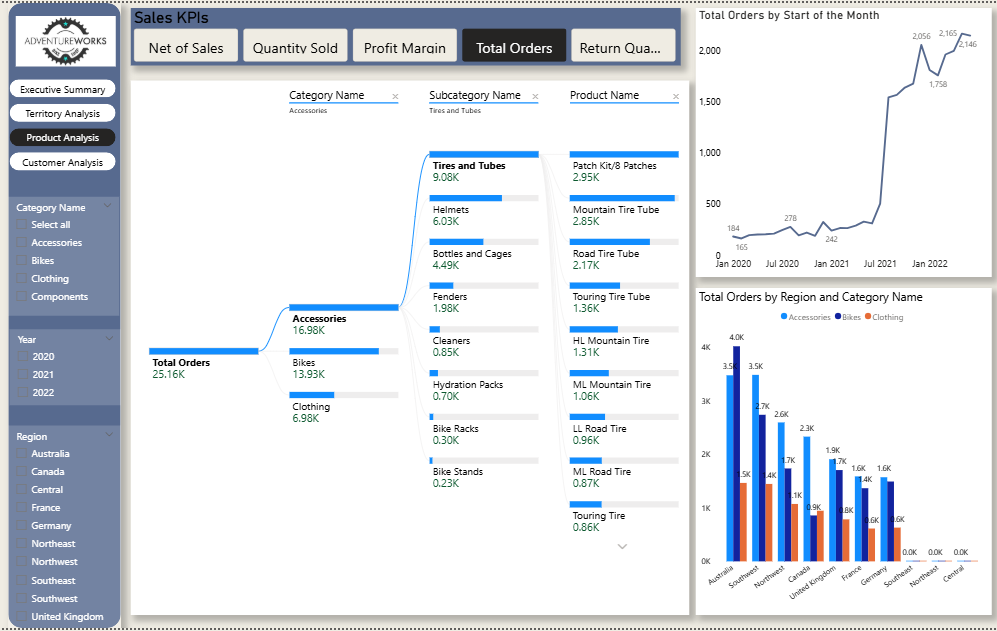

The page's visual inventory and layout, read from the dashboard file:
{"tool":"powerbi","page":{"name":"Product Analysis","canvas":[1600,1000],"ordinal":3},"visuals":[{"type":"shape","box":[17.5,0,180,1000],"z":0},{"type":"image","box":[30,0,160,122.5],"z":1000},{"type":"slicer","fields":{"Values":["DimProduct Categories.Category Name"]},"box":[17.5,310,177.5,190],"z":2000},{"type":"slicer","fields":{"Values":["DimDate.Year"]},"box":[20,500,177.1,157.1],"z":3000},{"type":"slicer","fields":{"Values":["DimTerritory.Region"]},"box":[20,640,177.5,360],"z":4000},{"type":"pageNavigator","box":[20,122.9,170,148.6],"z":5000},{"type":"decompositionTreeVisual","fields":{"Analyze":["_Measures.Total Orders"],"ExplainBy":["DimProduct Categories.Category Name","DimProduct Subcategories.Subcategory Name","DimProduct.Product Name"]},"box":[213.3,123.3,893.3,855],"z":6000},{"type":"advancedSlicerVisual","fields":{"Values":["Sales KPIs 2.Sales KPIs"]},"box":[213.3,8.3,880,91.7],"z":7000},{"type":"lineChart","fields":{"Y":["_Measures.Total Orders"],"Category":["DimDate.Start of the Month"]},"box":[1118.3,8.3,473.3,430],"z":8000},{"type":"clusteredColumnChart","fields":{"Y":["_Measures.Total Orders"],"Category":["DimTerritory.Region"],"Series":["DimProduct Categories.Category Name"]},"box":[1118.3,455,473.3,523.3],"z":9000}]}

Visuals, with their boxes on the page's 1600x1000 design canvas (x1, y1, x2, y2). These are canvas units, not pixel positions in the 997x631 screenshot, which may show the page scaled, cropped or inside an application window:
shape: 18 0 198 1000
image: 30 0 190 122
slicer - DimProduct Categories.Category Name: 18 310 195 500
slicer - DimDate.Year: 20 500 197 657
slicer - DimTerritory.Region: 20 640 198 1000
pageNavigator: 20 123 190 272
decompositionTreeVisual - _Measures.Total Orders x DimProduct Categories.Category Name: 213 123 1107 978
advancedSlicerVisual - Sales KPIs 2.Sales KPIs: 213 8 1093 100
lineChart - _Measures.Total Orders x DimDate.Start of the Month: 1118 8 1592 438
clusteredColumnChart - _Measures.Total Orders x DimTerritory.Region: 1118 455 1592 978
